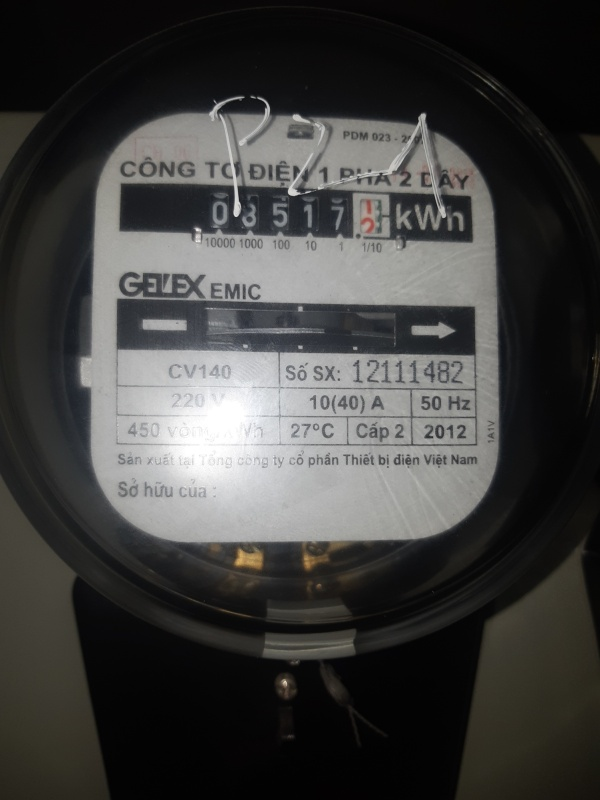counter: (122, 190, 475, 239)
electricity_meter: (2, 57, 600, 639)
